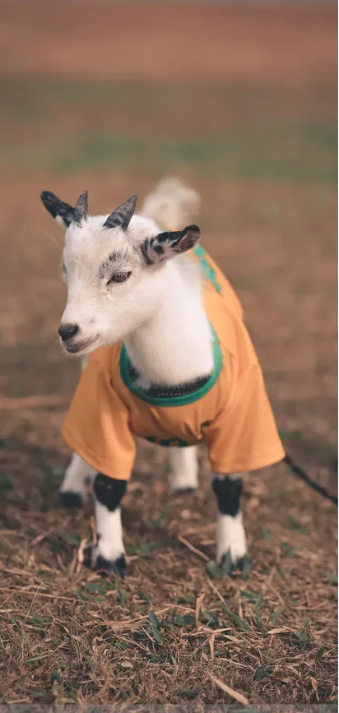goat: (39, 174, 273, 583)
